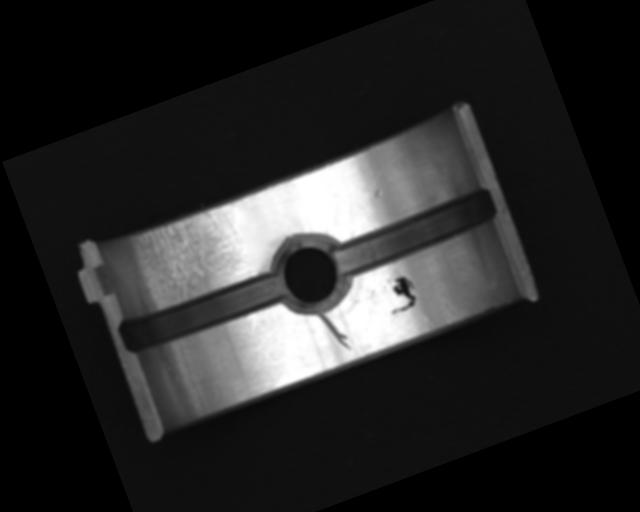blot: (379, 272, 422, 316)
bruise: (371, 187, 385, 201)
gap: (325, 181, 501, 284), (115, 265, 286, 359)
hole: (262, 223, 360, 322)
nick: (316, 304, 354, 358), (244, 310, 265, 333)
scratch: (120, 200, 259, 315)
